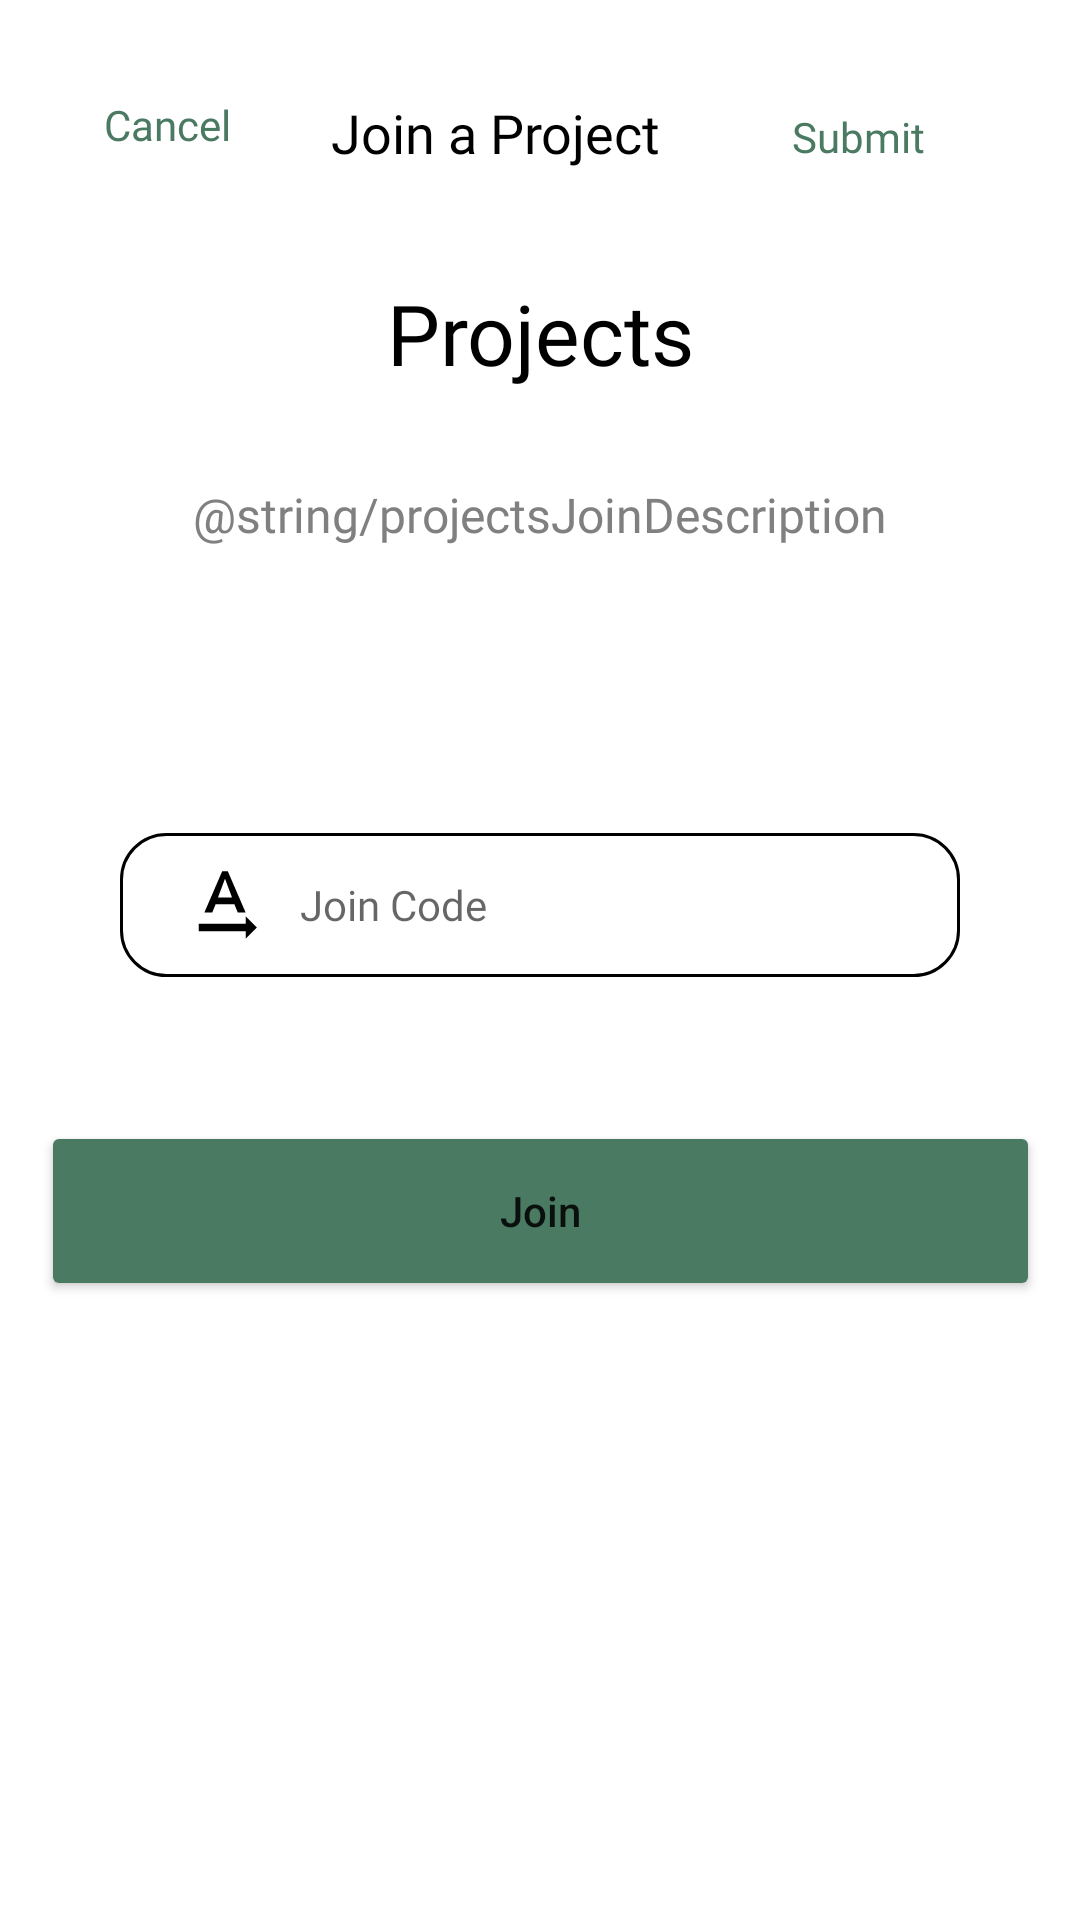

Locate icon controls on the screen. Image size 1080*1920, boxes as [x1, y1, x2, y2].
text rotation none: [198, 871, 257, 939]
